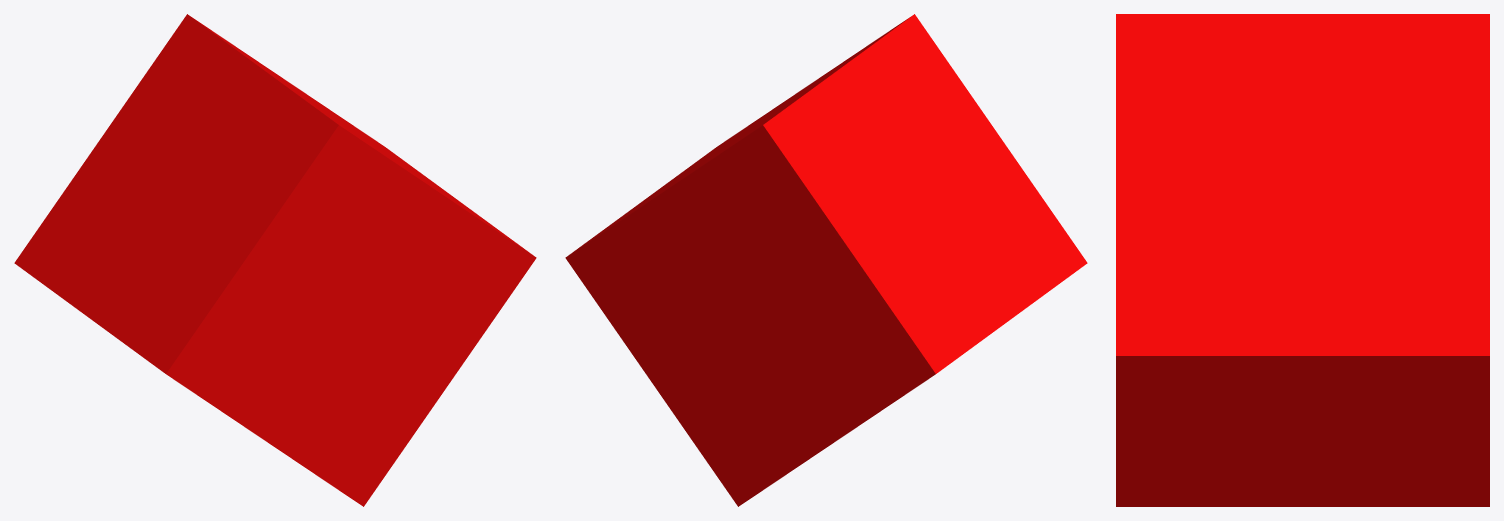
Rendered from red-box-animated.glb.
3 renders of one model, left to right at view 1: azimuth 30°, elevation 25°; view 2: azimuth 150°, elevation 25°; view 3: azimuth 270°, elevation 25°, orthographic. The views are drawn at different scales.
Bounding box in the file's own units: 1.41 × 1.41 × 1.
